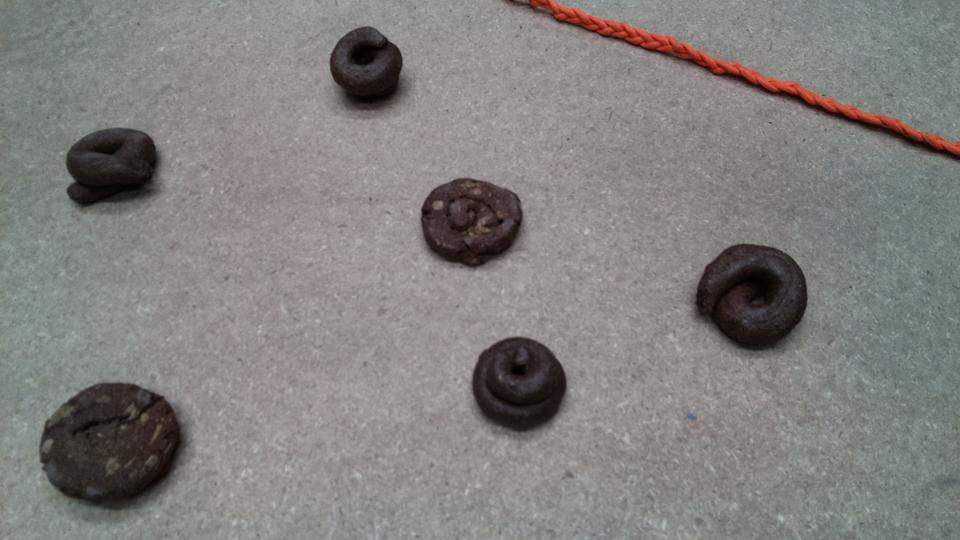poop: (36, 376, 184, 511), (693, 242, 810, 353), (418, 174, 528, 272), (468, 333, 571, 435), (60, 124, 163, 209), (326, 23, 407, 112)
rope: (541, 1, 960, 148)
